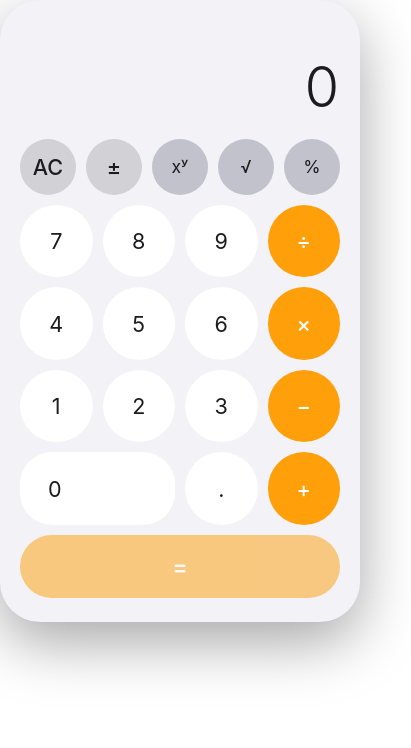
it: Calculator › resets the pending operator when a chained calculation fails
Click the button "4".
click(56, 324)  # box [20,287,92,360]
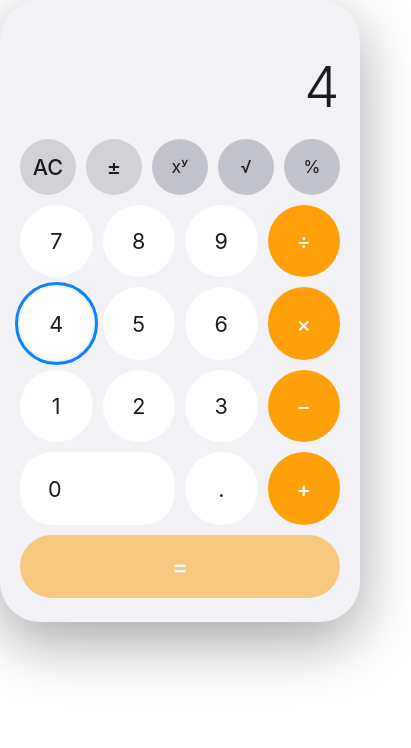
Click the button "÷".
click(304, 241)  # box [268,205,340,277]
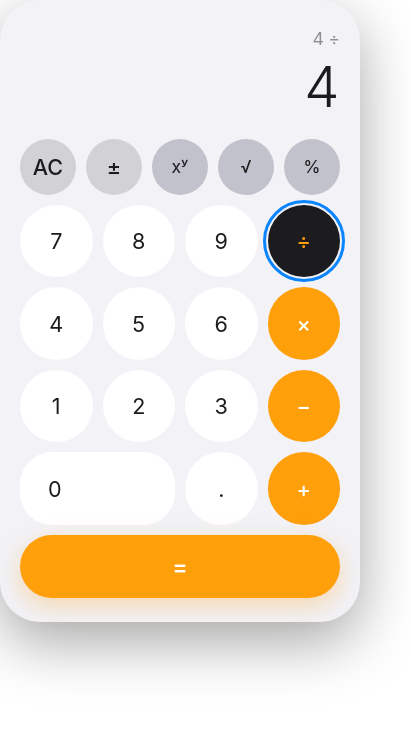
Click the button "0".
click(98, 489)  # box [20,452,175,525]
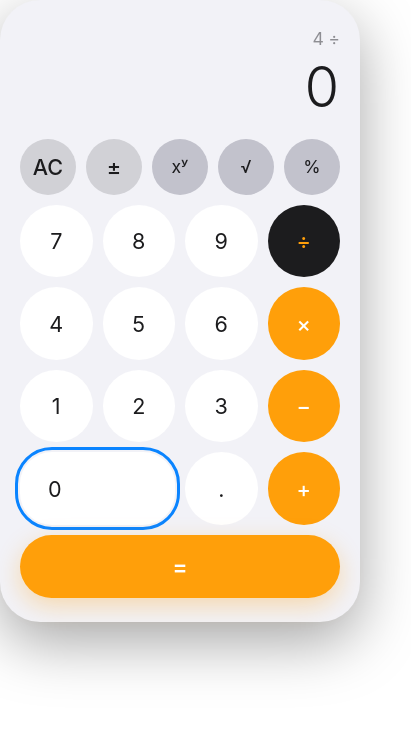
Click the button "×".
click(304, 324)  # box [268,287,340,360]
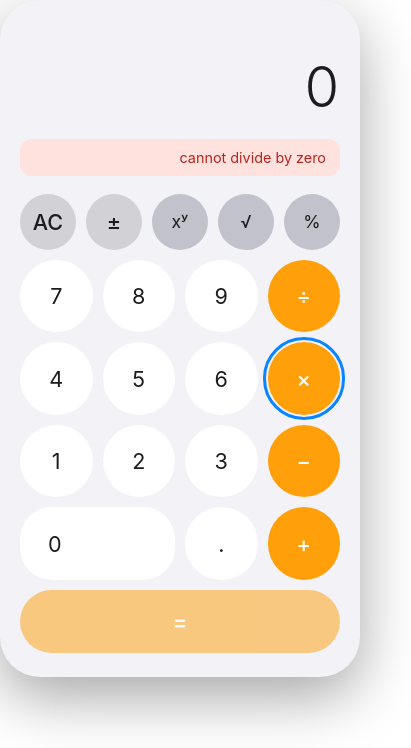
Check: the message "cannot divide by zero" is shown, box [20,139,340,176]
Check: the button "=" is disabled, box [20,590,340,653]
